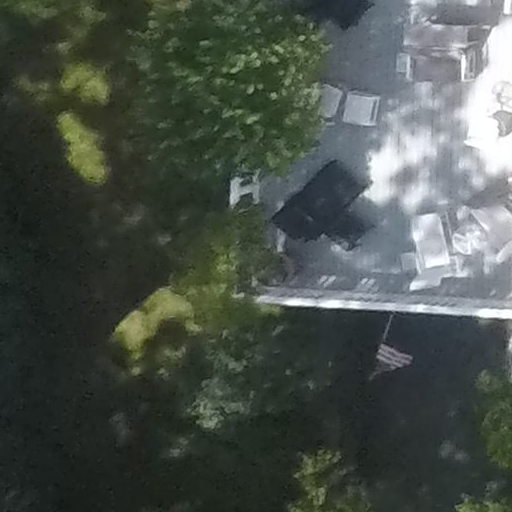chair: (398, 205, 461, 299)
porch: (222, 1, 512, 313)
table: (452, 220, 486, 264)
